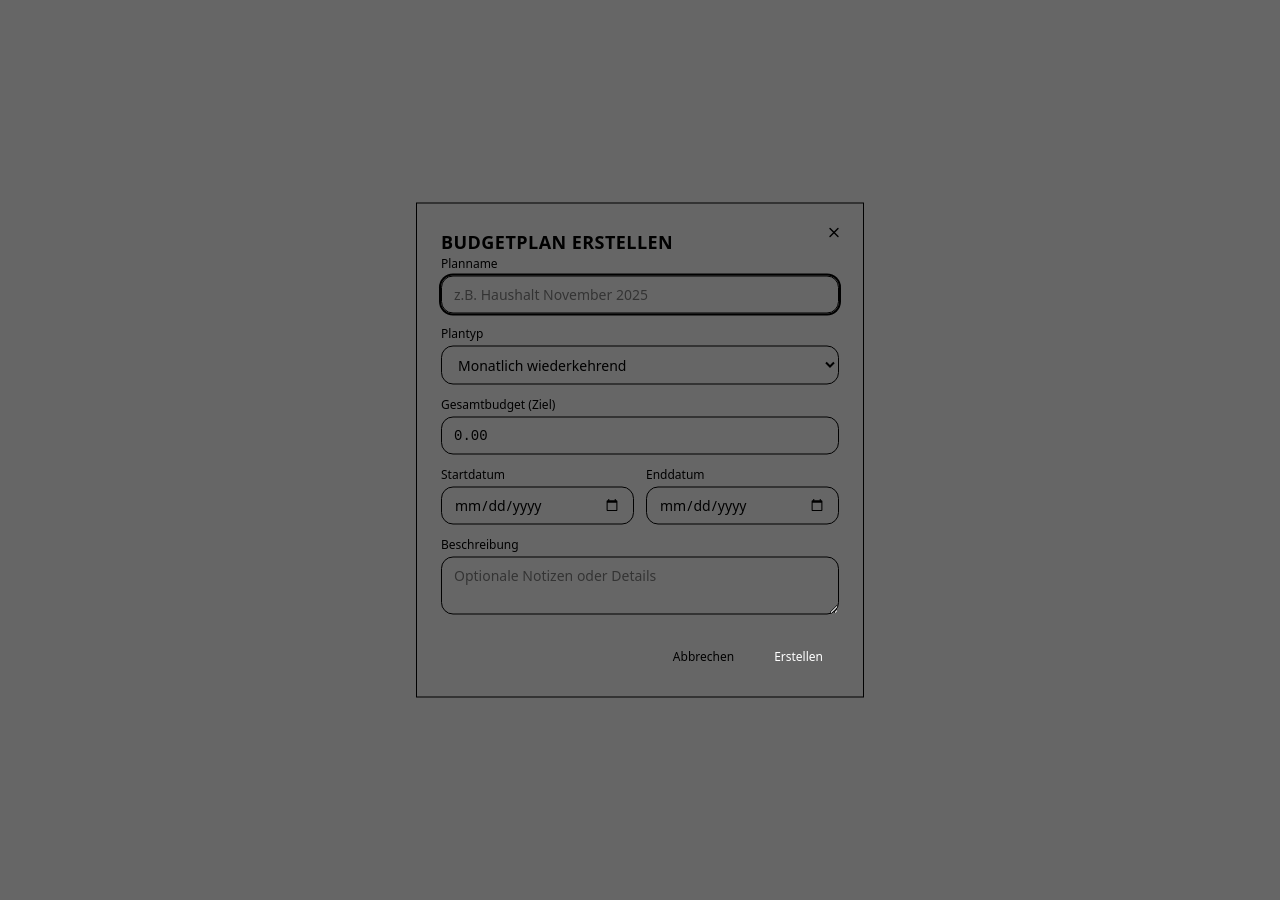
Scenario: dialogs surface failed saves › PlanDialog shows the failure
Type "November" into the field labelled "Planname" at (640, 294), box [441,276,839,314]
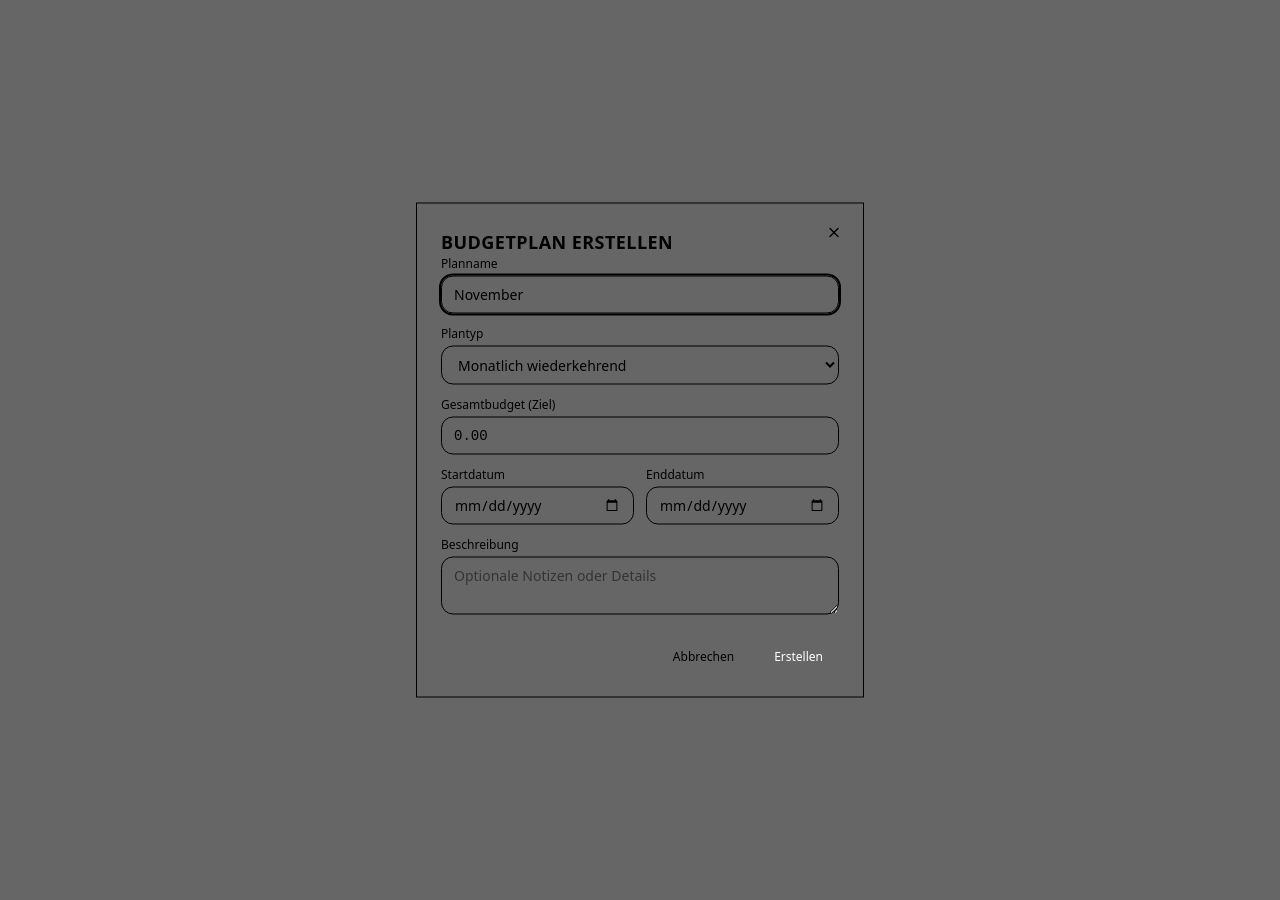
Submit the form labelled "Planname", box [441,256,839,672]
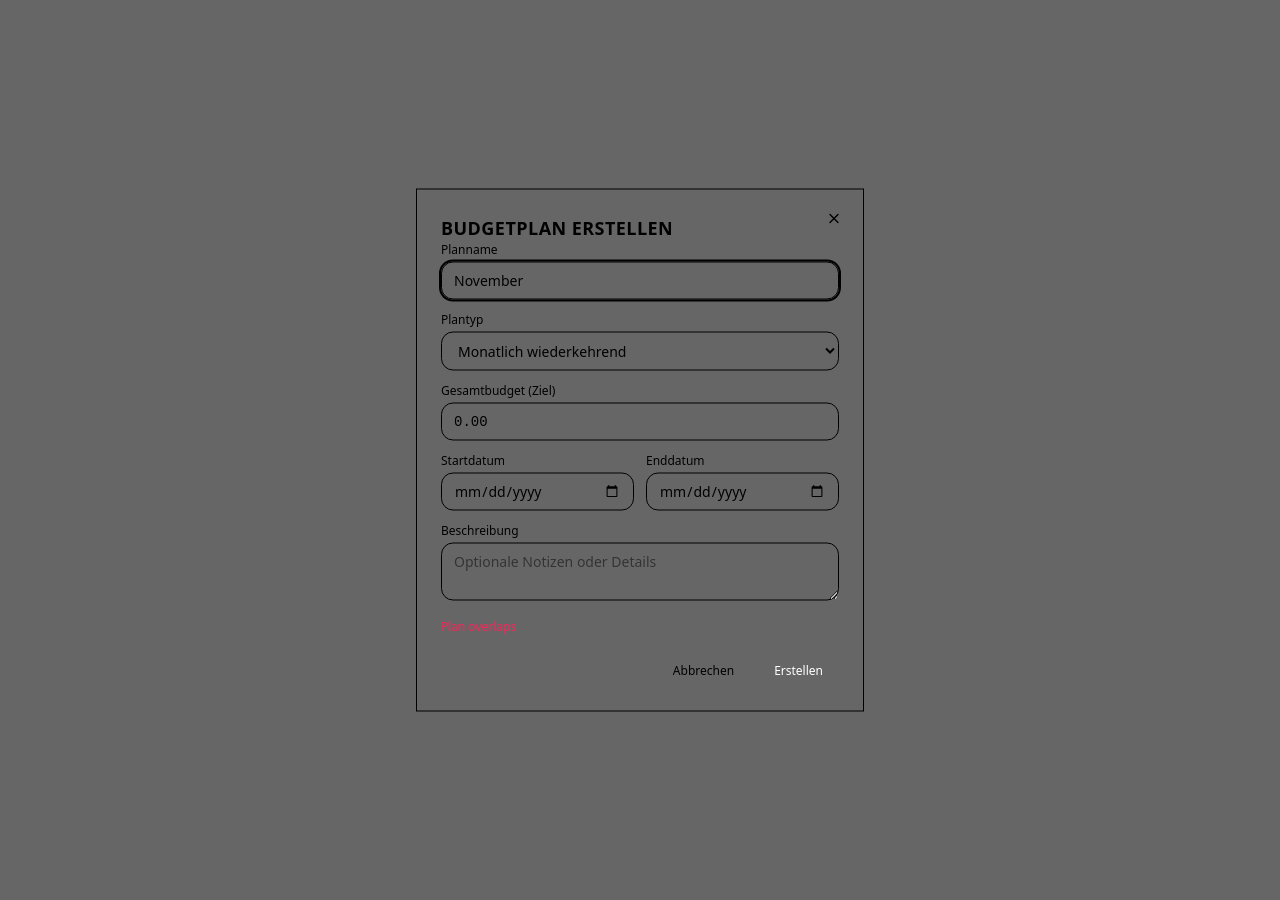
Expected: the message reads "Plan overlaps", [441,618,516,634]
